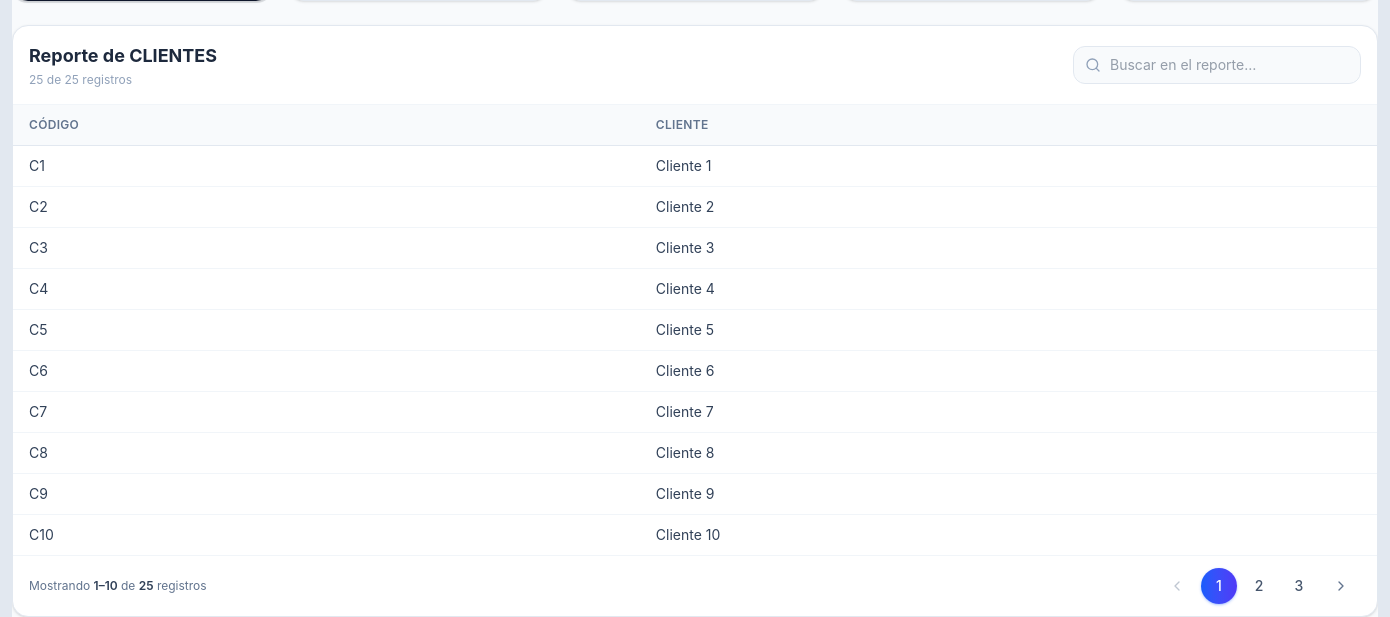
Reports (Centro de Reportes) › pagina los resultados (10 por página)
(page scrolled)
Expected: the text "C1" is shown, top-left (13, 146), bottom-right (640, 186)
Expected: the text "C11" is not shown
Note: Ir a la página 2: filas 11..20
Click the button "2" at {"x": 1259, "y": 586}, box top-left (1241, 568), bottom-right (1277, 604)
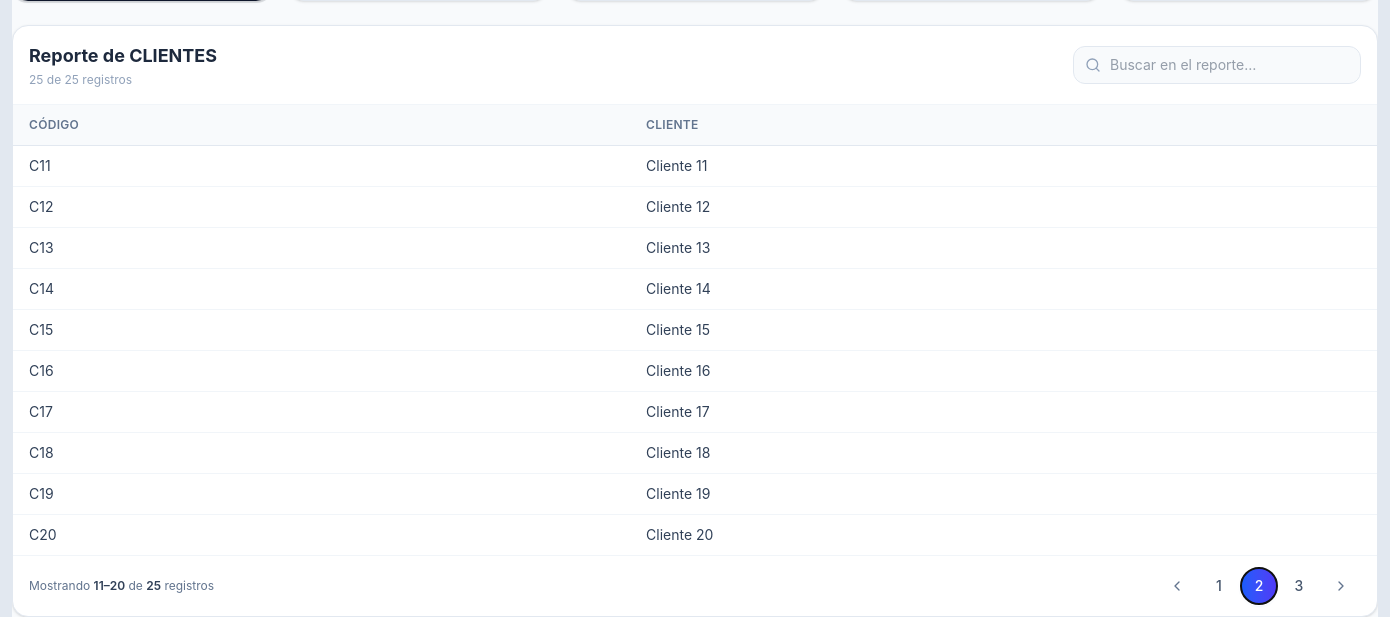
Now the text "C11" is shown, box top-left (13, 146), bottom-right (630, 186)
